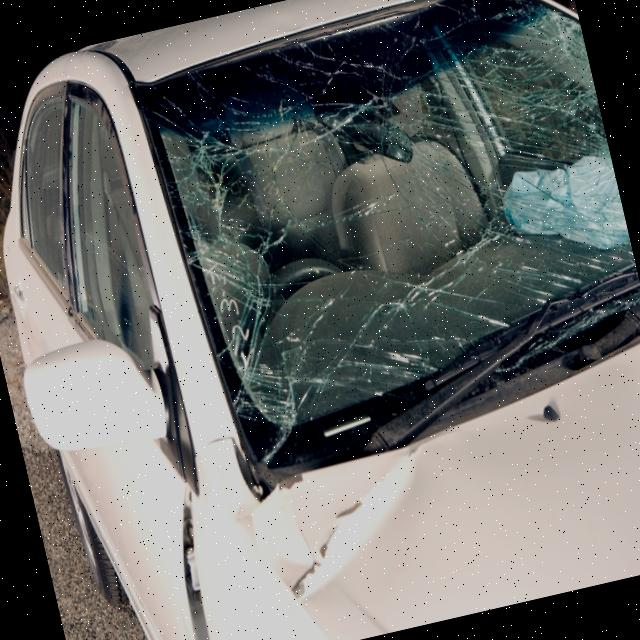Windshield: (161, 0, 640, 437)
